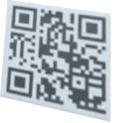qr_code: (6, 6, 107, 115)
